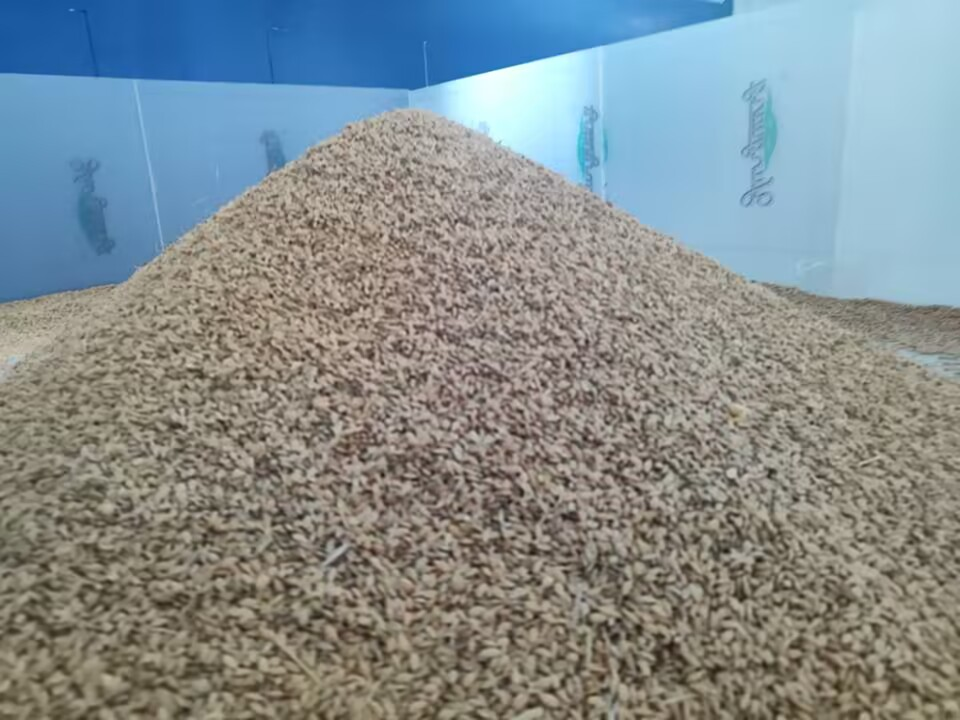Grain: (90, 105, 725, 598)
